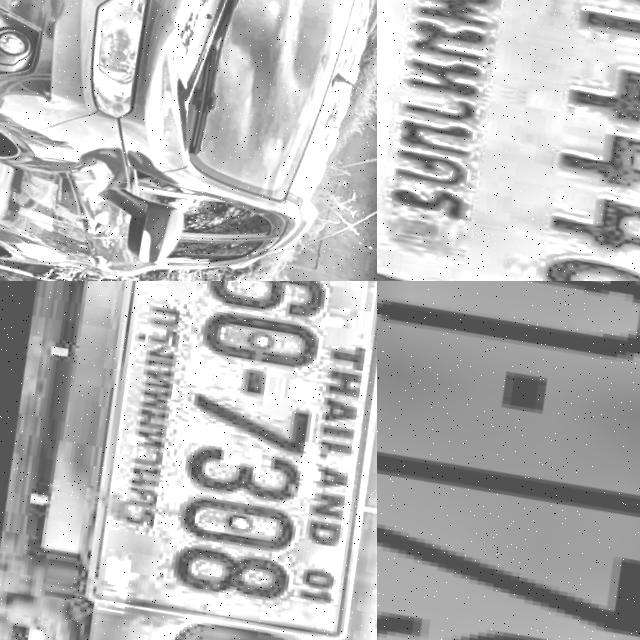license-plate: (61, 281, 377, 640), (377, 281, 640, 640), (377, 0, 640, 281)
